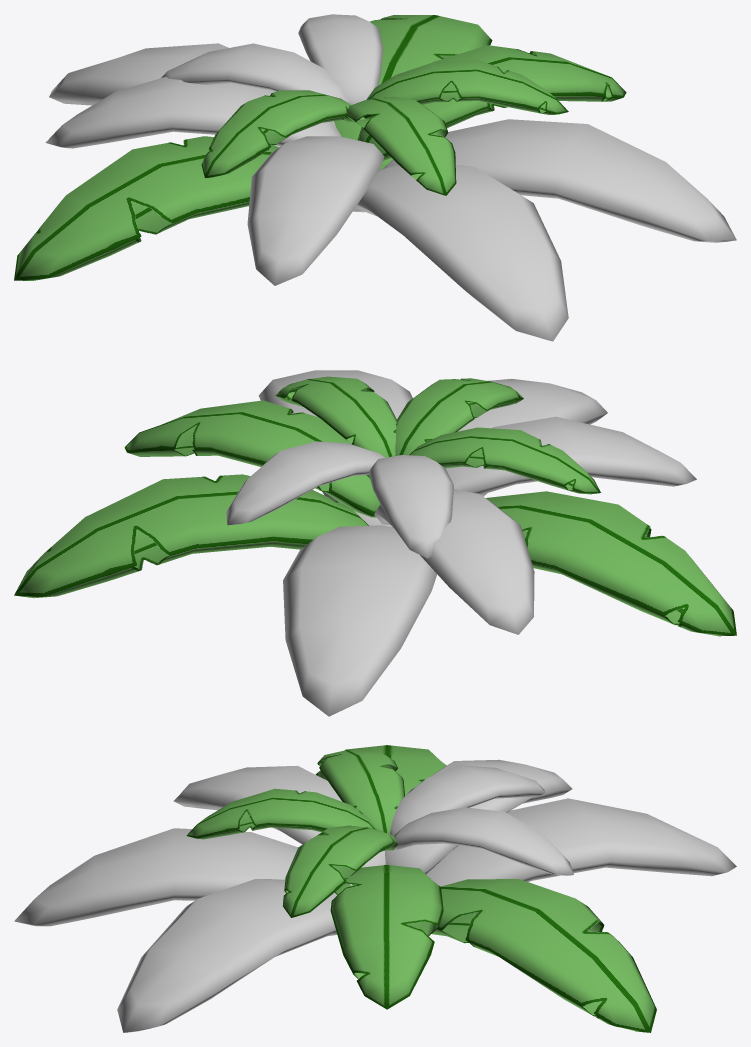
File: BeachPlant.fbx
3 views of the same model, one above another, from view 1: azimuth 30°, elevation 25°; view 2: azimuth 150°, elevation 25°; view 3: azimuth 270°, elevation 25° (orthographic). The views are drawn at different scales.
Parts seen in each view (by area): view 1: BeachPlant; view 2: BeachPlant; view 3: BeachPlant.
Part boxes in pixels (x1,y1,x2,y2): BeachPlant: (14,14,736,341); BeachPlant: (14,370,736,716); BeachPlant: (14,745,736,1032).
Size of the model in its own units: 1.82 by 0.3827 by 1.97.
